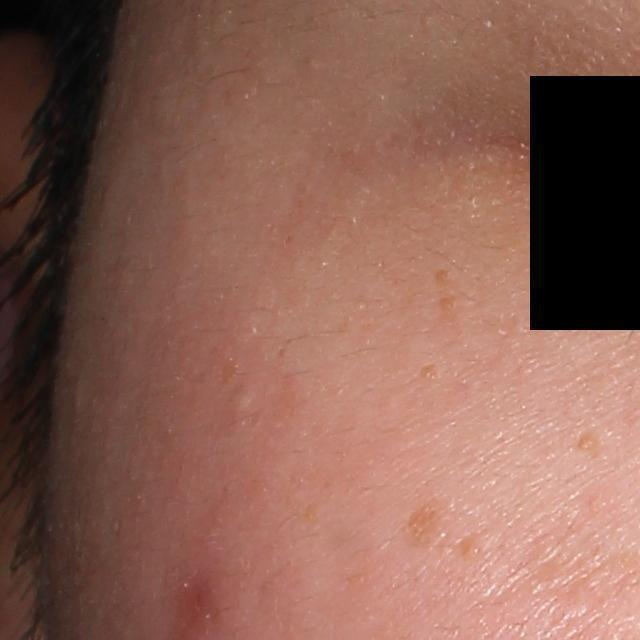comedo: (231, 379, 260, 414)
melasma: (404, 495, 450, 550), (575, 428, 606, 460), (436, 294, 461, 321), (428, 268, 453, 287), (417, 364, 441, 381)
